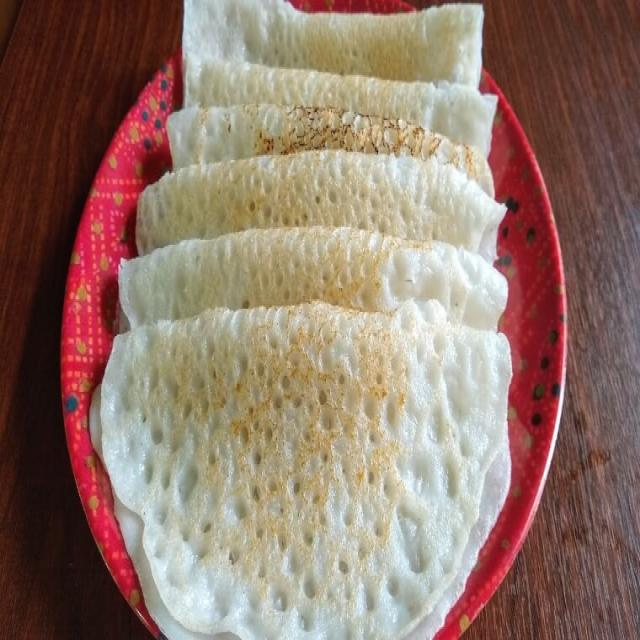DOSA: (101, 302, 509, 638), (184, 0, 495, 157), (120, 227, 507, 328), (137, 149, 504, 253), (167, 104, 489, 190)
